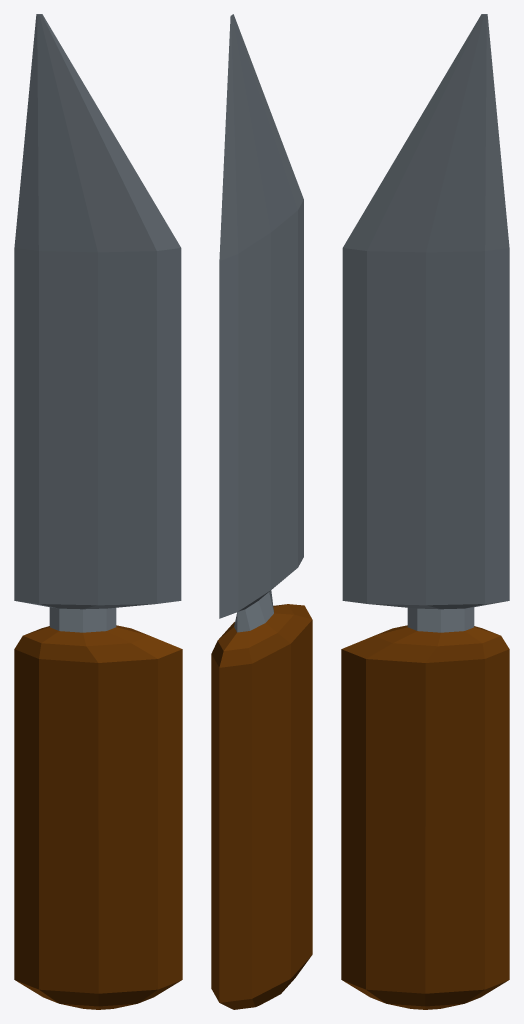
Rendered from Cuchillo.fbx.
The picture shows the model from 3 angles, left to right: view 1: azimuth 90°, elevation 25°; view 2: azimuth 150°, elevation 25°; view 3: azimuth 270°, elevation 25°; orthographic projection.
Parts seen in each view (by area): view 1: Cylinder; view 2: Cylinder; view 3: Cylinder.
Part boxes in pixels (left/top/right/bottom): Cylinder: left=14, top=14, right=182, bottom=1009; Cylinder: left=211, top=14, right=312, bottom=1009; Cylinder: left=341, top=14, right=509, bottom=1009.
Bounding box in the file's own units: 41.12 × 684 × 105.
